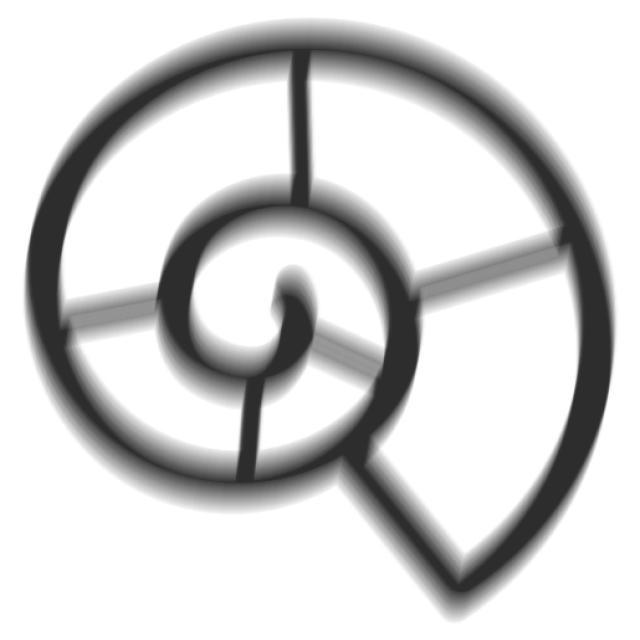fossil: (13, 12, 628, 632)
